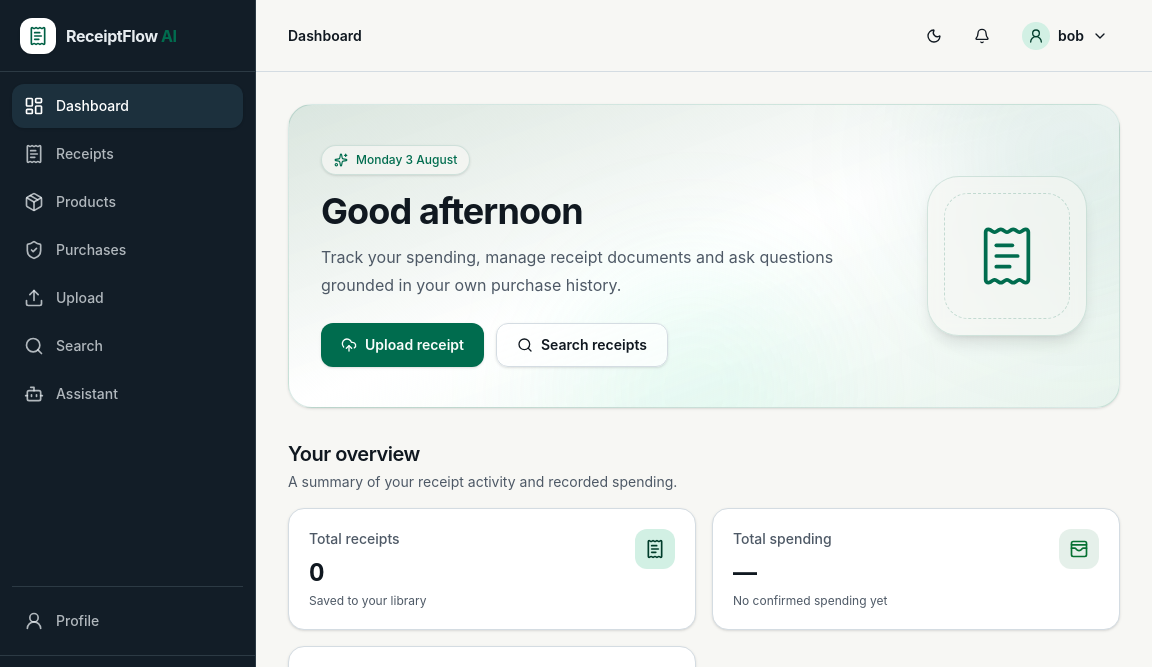
application shell › navigates between routes
Expected: the heading "Good afternoon" is shown, [321,189,583,233]
Click the link "Receipts".
click(69, 154)  # box [24,144,114,164]
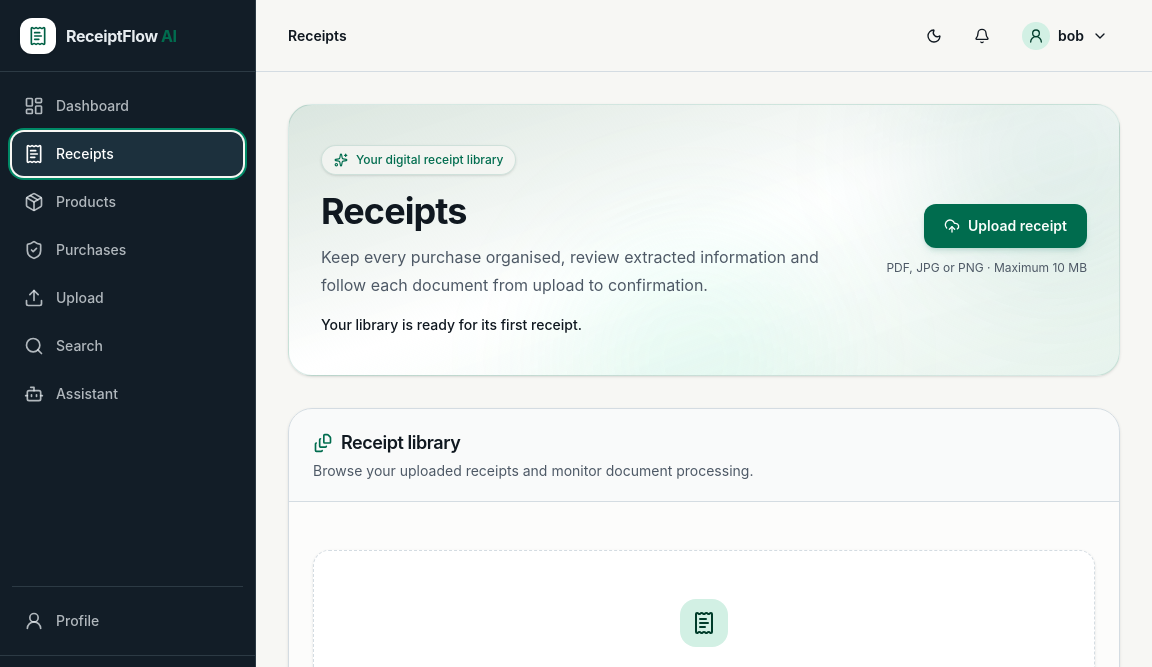
Now the heading "Receipts" is shown, box [321,189,467,233]
